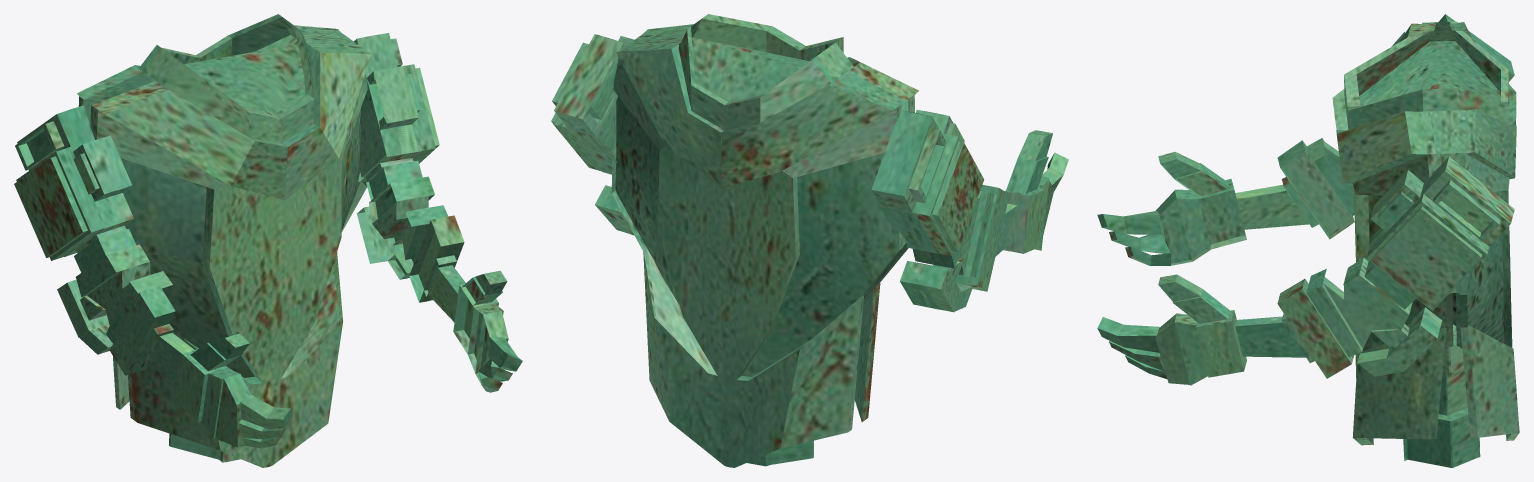
The model's file is owlChest.fbx.
3 views of the same model, side by side, from view 1: azimuth 30°, elevation 25°; view 2: azimuth 150°, elevation 25°; view 3: azimuth 270°, elevation 25° (orthographic). The views are drawn at different scales.
Parts seen in each view (by area): view 1: OwlChest; view 2: OwlChest; view 3: OwlChest.
Part boxes in pixels (box(x1,y1,x2,y2)): OwlChest: box(14, 14, 522, 467); OwlChest: box(551, 14, 1068, 467); OwlChest: box(1097, 14, 1519, 467).
Size of the model in its own units: 264 by 269 by 262.
